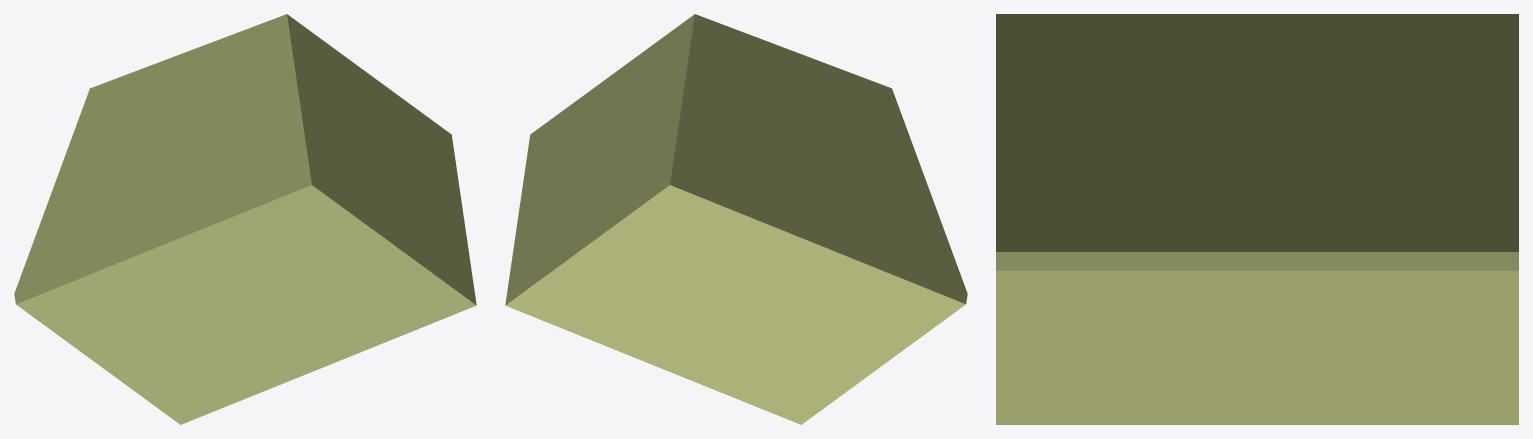
The picture shows the model from 3 angles, left to right: view 1: azimuth 30°, elevation 25°; view 2: azimuth 150°, elevation 25°; view 3: azimuth 270°, elevation 25°; orthographic projection. The views are drawn at different scales.
Parts seen in each view (by area): view 1: 0_1_2_0_3_1_3_2_1_3_0_3; view 2: 0_1_2_0_3_1_3_2_1_3_0_3; view 3: 0_1_2_0_3_1_3_2_1_3_0_3.
Part boxes in pixels (x1,y1,x2,y2): 0_1_2_0_3_1_3_2_1_3_0_3: (14, 14, 476, 424); 0_1_2_0_3_1_3_2_1_3_0_3: (505, 14, 967, 424); 0_1_2_0_3_1_3_2_1_3_0_3: (996, 14, 1518, 424).
Bounding box in the file's own units: 6.26 × 4.5 × 6.
